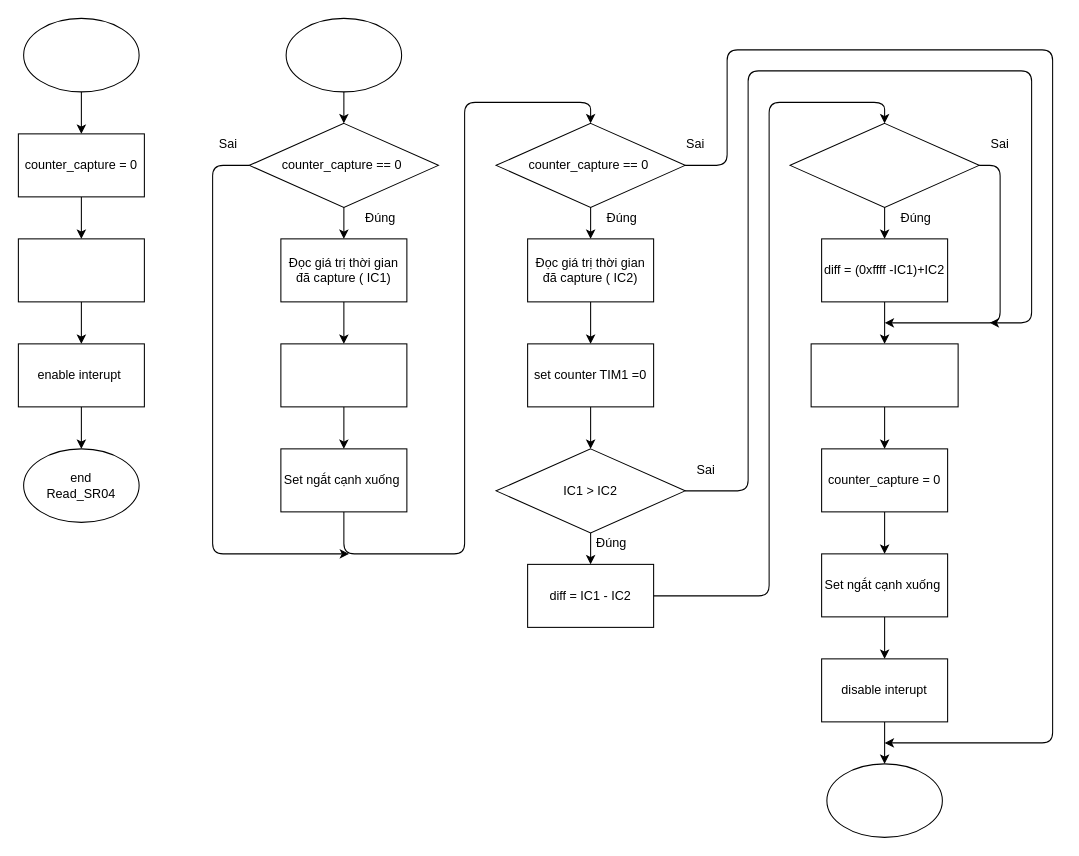
The diagram is 1079 pixels wide and 856 high, and some of its shapes have lost their labels. Each missing label, with the centre of its shape:
"Begin distance ()" goes at point (343, 54).
"Begin Read_SR04()" goes at point (81, 54).
"counter_capture = 1" goes at point (343, 375).
"distance = (diff*0.343)/2" goes at point (884, 375).
"end distance ()" goes at point (884, 800).
"IC1 < C2" goes at point (884, 164).
"Tạo xung 10 us vào chân Trigger SR04" goes at point (80, 270).
